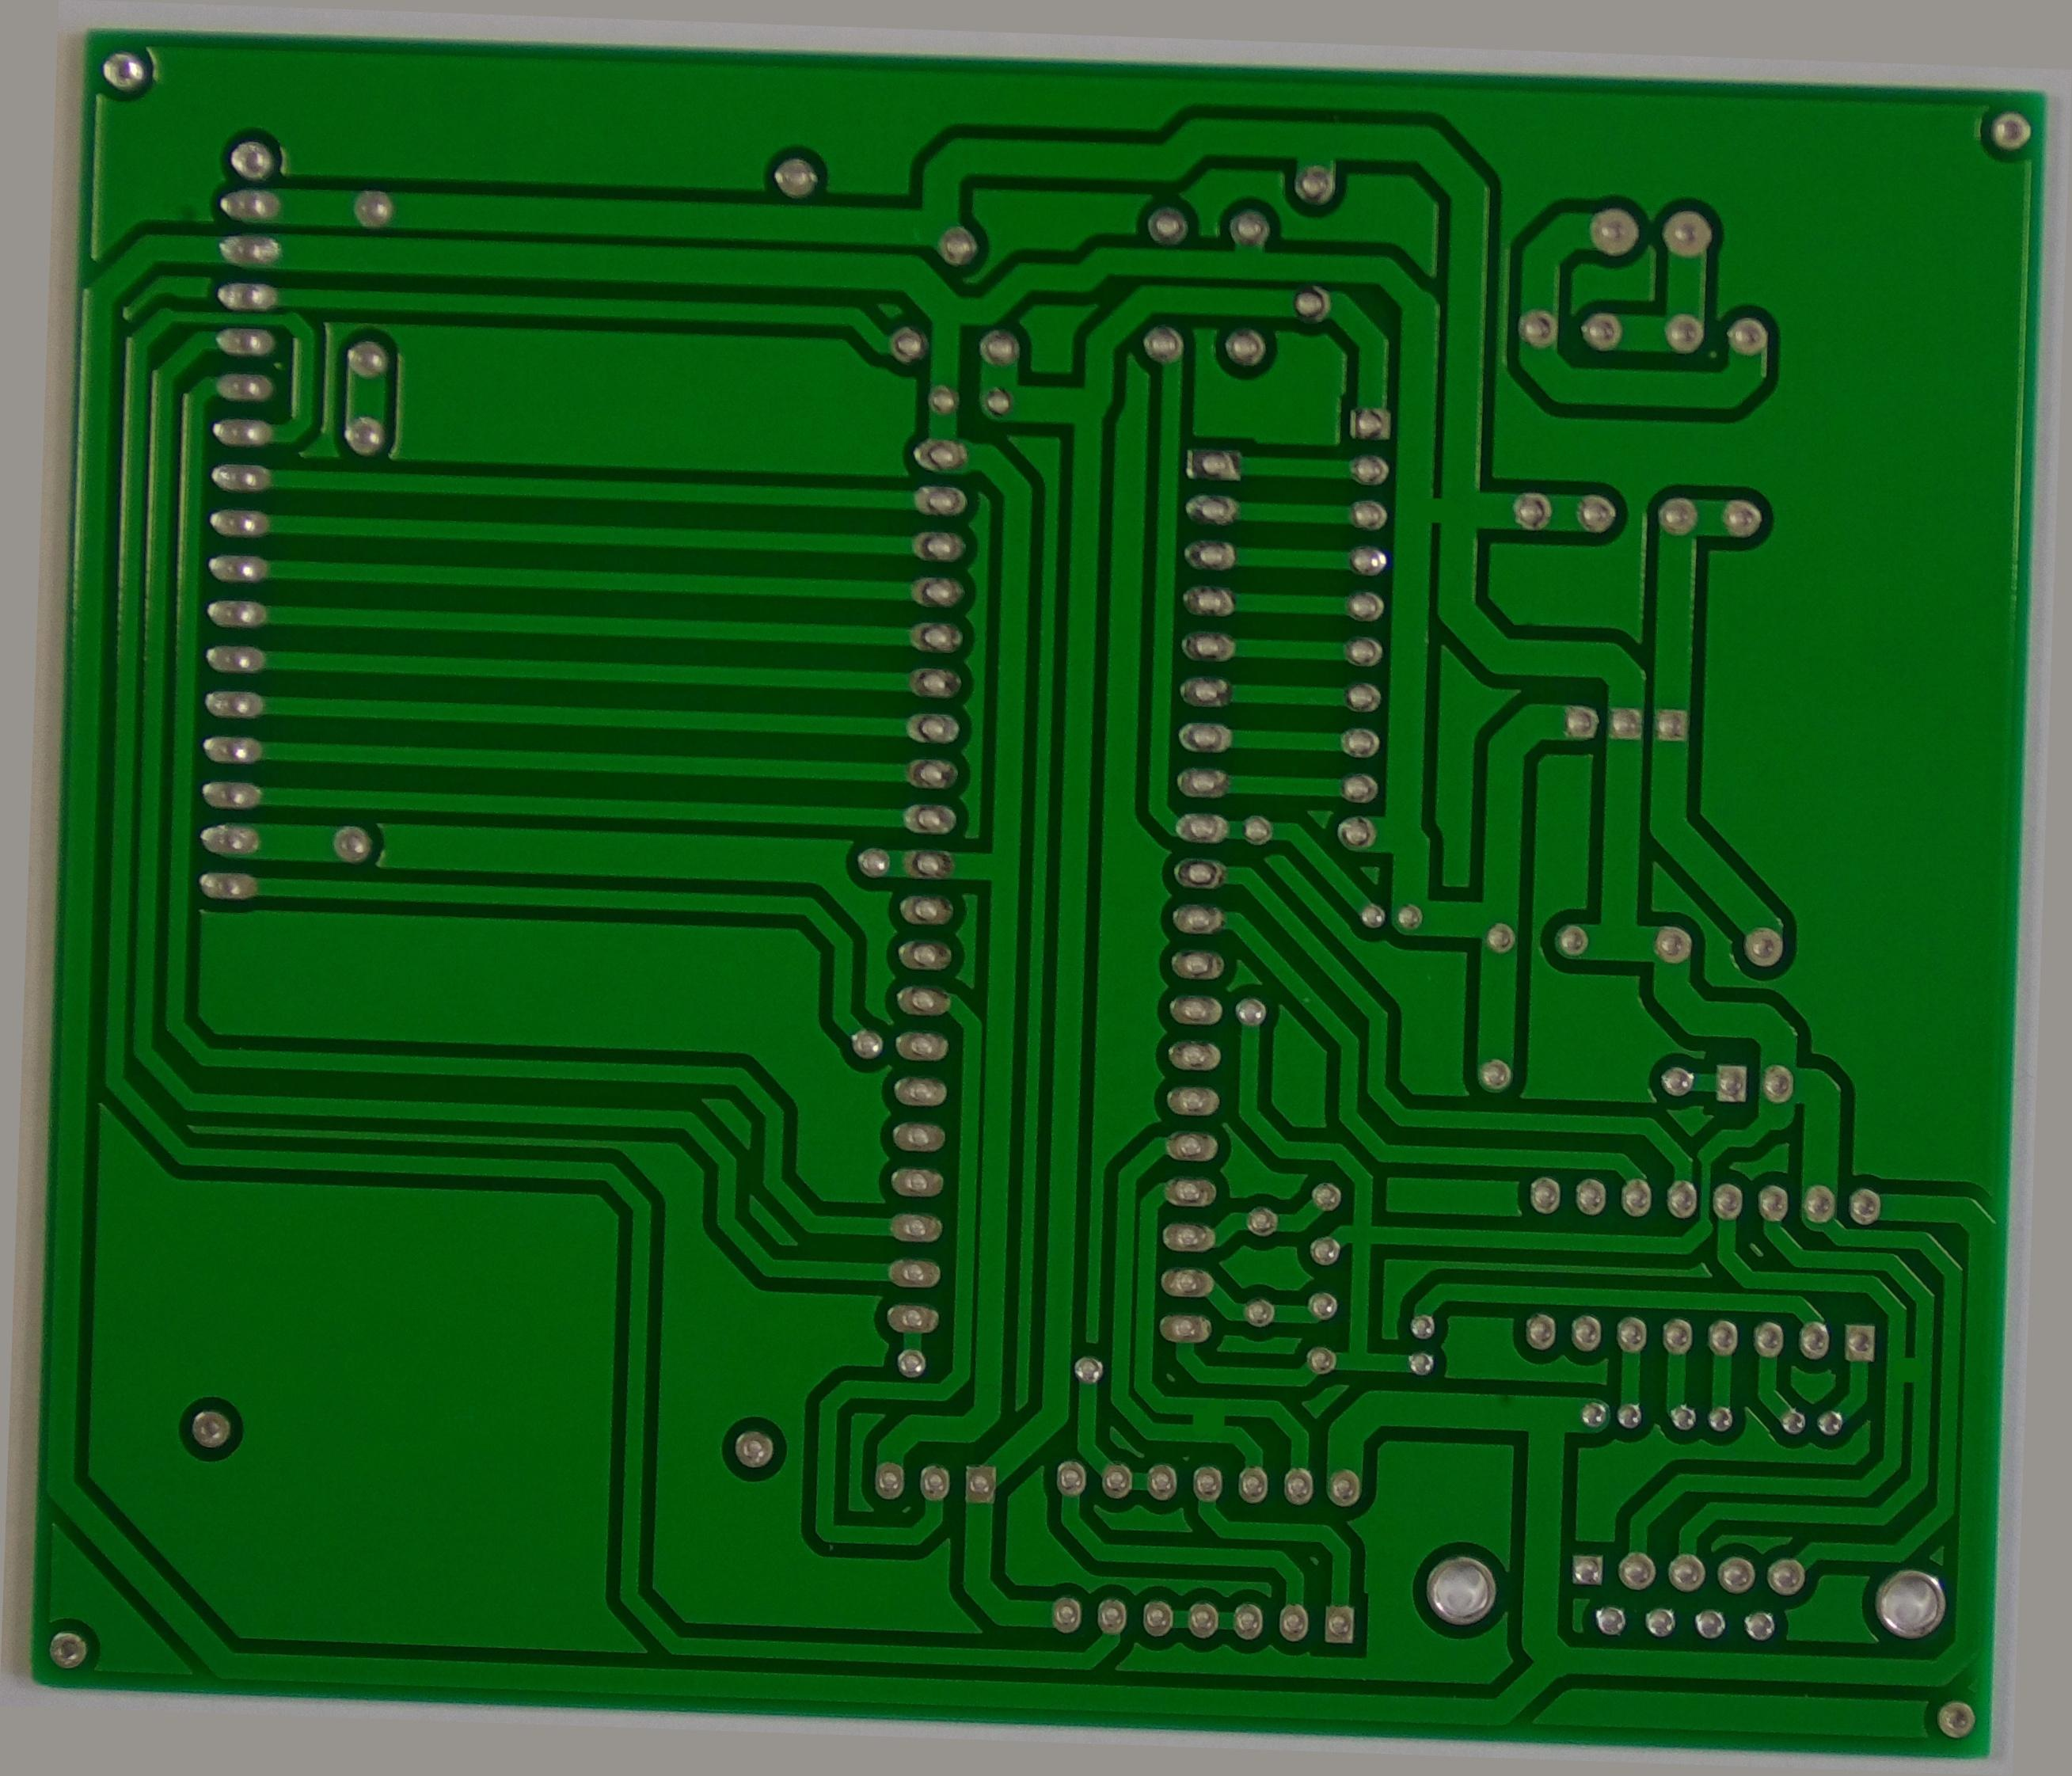short: (1388, 446, 1484, 523), (1195, 1397, 1269, 1464), (1922, 1332, 1979, 1385)
